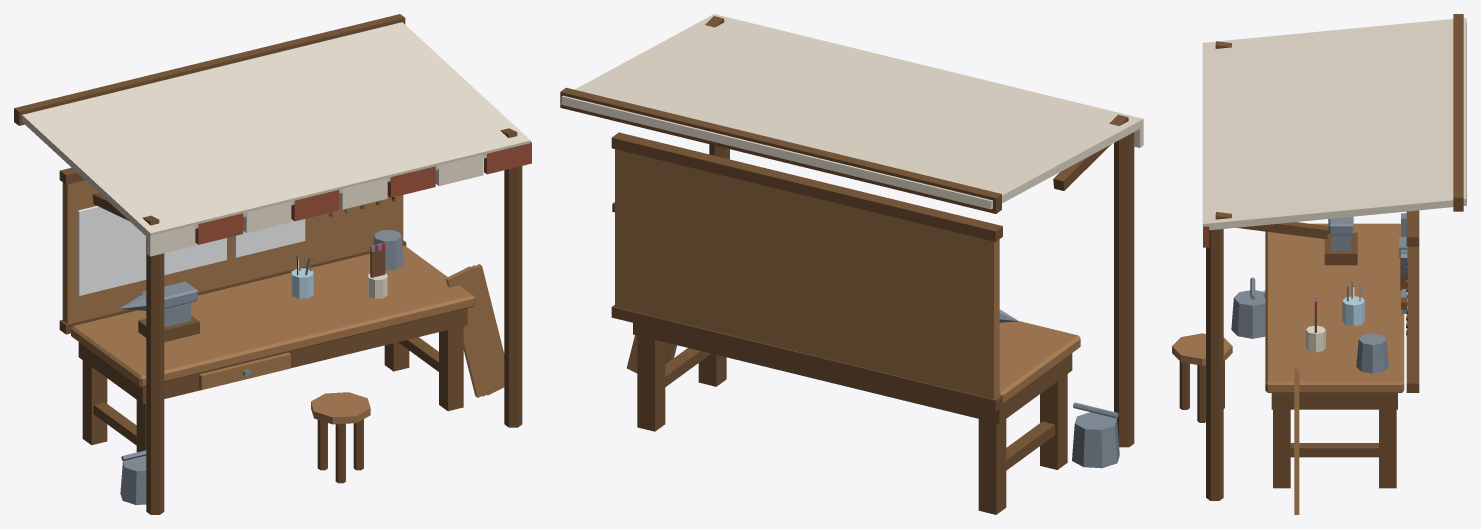
The model's file is AST07.glb.
3 renders of one model, left to right at view 1: azimuth 30°, elevation 25°; view 2: azimuth 150°, elevation 25°; view 3: azimuth 270°, elevation 25°, orthographic. The views are drawn at different scales.
Parts seen in each view (by area): view 1: AST07_Workbench, AST07_Panel_1, AST07_Panel_3, AST07_Panel_2; view 2: AST07_Workbench; view 3: AST07_Workbench.
Part boxes in pixels (left/top/right/bottom): AST07_Workbench: left=14, top=14, right=531, bottom=514; AST07_Panel_1: left=77, top=206, right=146, bottom=295; AST07_Panel_3: left=234, top=219, right=305, bottom=257; AST07_Panel_2: left=164, top=229, right=226, bottom=275; AST07_Workbench: left=560, top=14, right=1143, bottom=514; AST07_Workbench: left=1172, top=14, right=1466, bottom=514.
Size of the model in its own units: 3.67 by 2.72 by 2.34.
2 materials, 1 textured.
